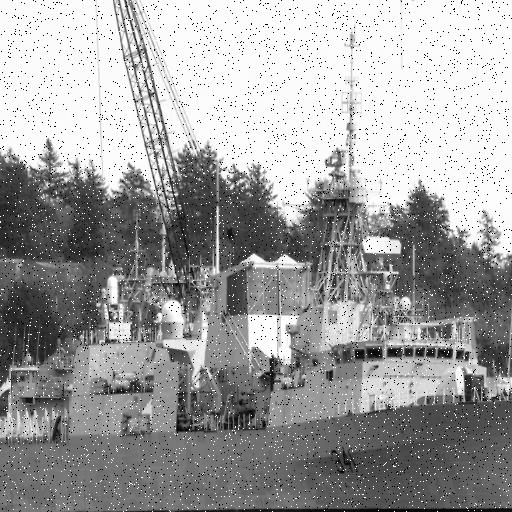Fragata: (1, 121, 512, 512)
